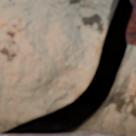brick: (127, 0, 135, 45), (56, 131, 117, 135)
crack: (0, 0, 133, 135)
